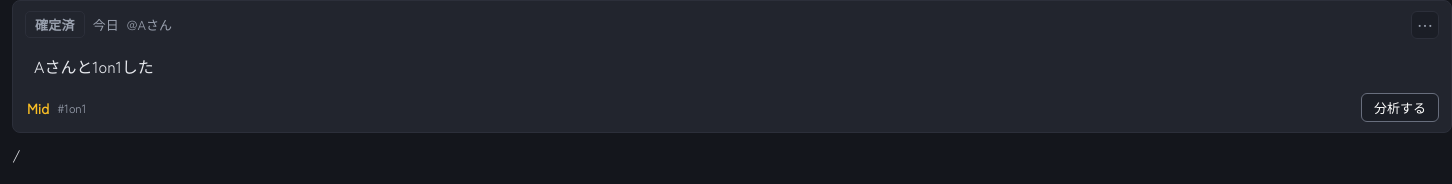
Test case: JournalEntryCard（表示モード） › 確定済みで相談が無いとき「分析する」を出し、成功したら相談へ遷移する
This screenshot has width=1452, height=184.
Click the button "分析する": click(1400, 108) [1361,93,1439,122]
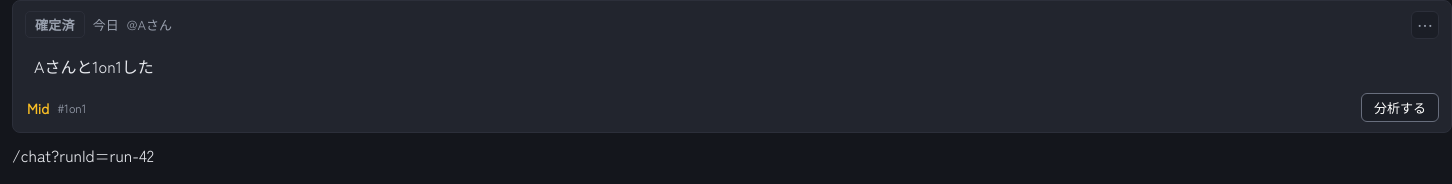
Result: the text with test id "location" reads "/chat?runId=run-42" at [12,143,154,167]
